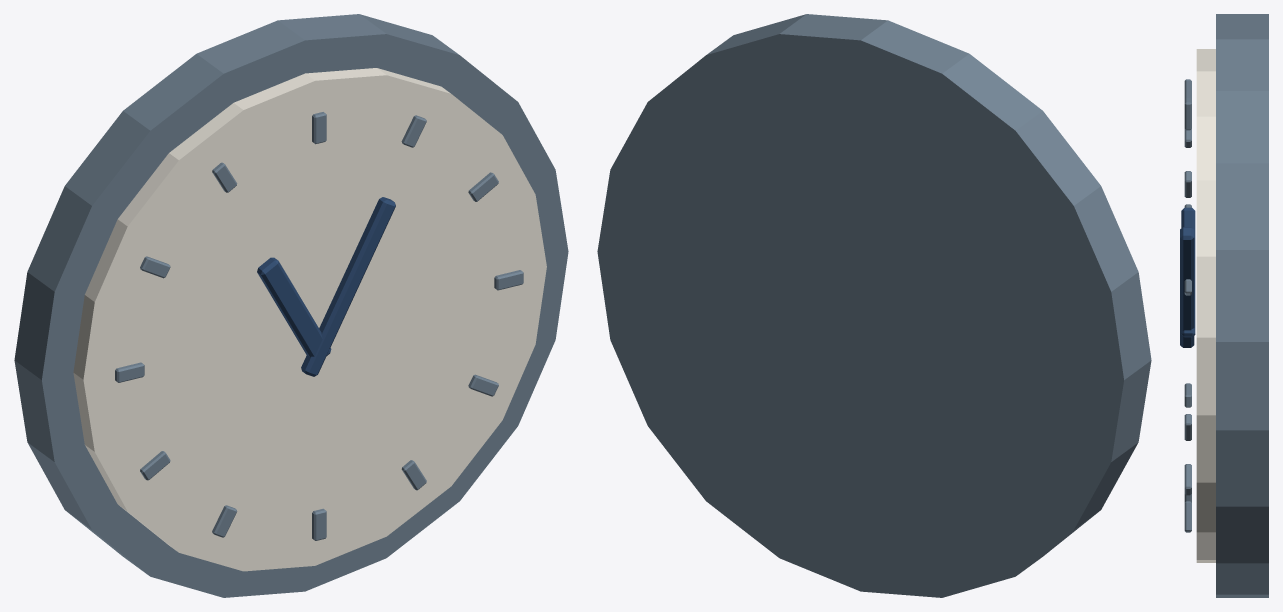
The model's file is decor_07.glb.
The picture shows the model from 3 angles, left to right: view 1: azimuth 30°, elevation 25°; view 2: azimuth 150°, elevation 25°; view 3: azimuth 270°, elevation 25°; orthographic projection. The views are drawn at different scales.
Visible parts, largest first — view 1: ClockFace, ClockFrame, ClockMinute, ClockHour; view 2: ClockFrame; view 3: ClockFrame, ClockFace, Tick (×8), ClockMinute, ClockHour.
Part boxes in pixels (x1,y1,x2,y2): ClockFace: [73, 68, 546, 571]; ClockFrame: [14, 14, 568, 597]; ClockMinute: [301, 197, 395, 376]; ClockHour: [257, 257, 331, 357]; ClockFrame: [597, 14, 1151, 597]; ClockFrame: [1216, 14, 1268, 597]; ClockFace: [1196, 49, 1215, 562]; Tick (×8): [1184, 79, 1191, 532]; ClockMinute: [1180, 227, 1194, 347]; ClockHour: [1181, 207, 1195, 337].
Size of the model in its own units: 0.5 by 0.5 by 0.0755.
